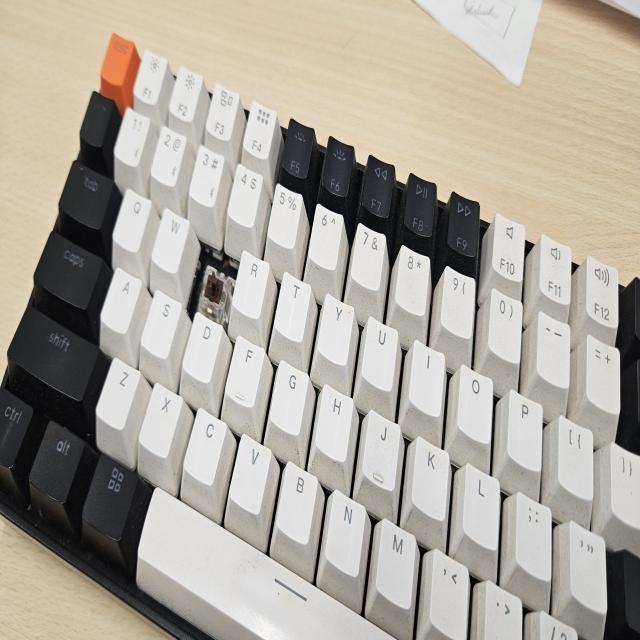C: (202, 264, 226, 307)
